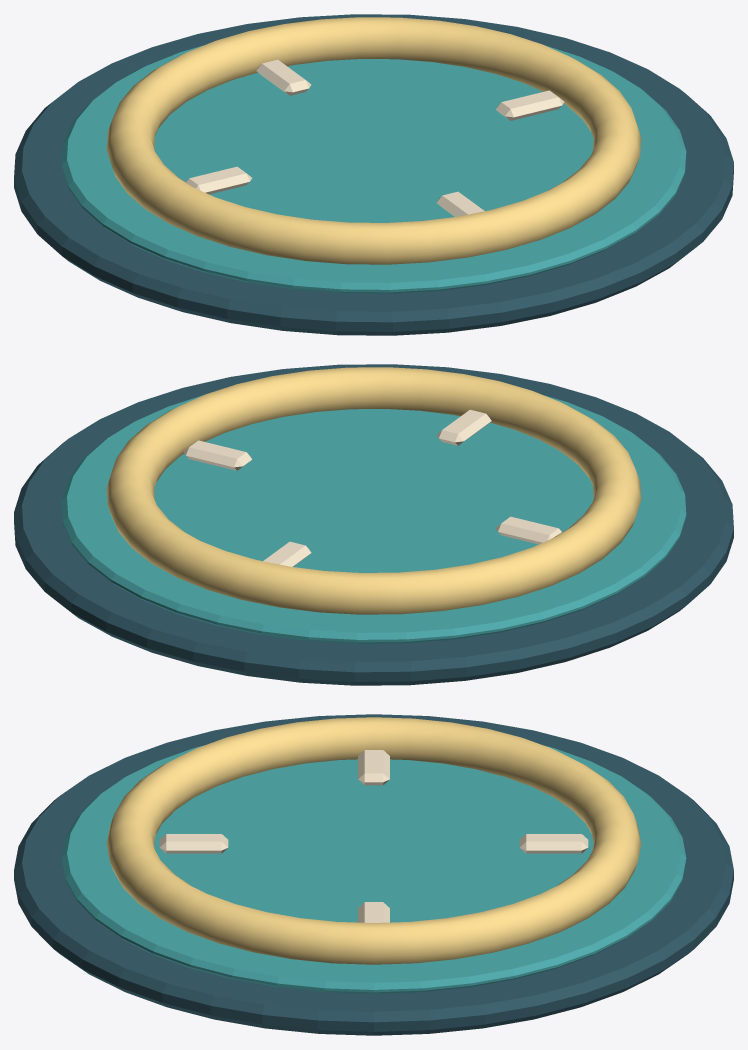
The model's file is city_goal.glb.
3 renders of one model, top to bottom at view 1: azimuth 30°, elevation 25°; view 2: azimuth 150°, elevation 25°; view 3: azimuth 270°, elevation 25°, orthographic.
Visible parts, largest first — view 1: Batched City v2 transit enamel, Batched City v2 deep window reveals, Batched City v2 transit cream, Batched City v2 old ivory stucco; view 2: Batched City v2 transit enamel, Batched City v2 deep window reveals, Batched City v2 transit cream, Batched City v2 old ivory stucco; view 3: Batched City v2 transit enamel, Batched City v2 deep window reveals, Batched City v2 transit cream, Batched City v2 old ivory stucco.
Boxes of the visible parts, <box> form: Batched City v2 transit enamel: <box>61,45,686,293</box>; Batched City v2 deep window reveals: <box>14,14,733,335</box>; Batched City v2 transit cream: <box>106,17,641,264</box>; Batched City v2 old ivory stucco: <box>186,59,564,216</box>; Batched City v2 transit enamel: <box>61,395,686,643</box>; Batched City v2 deep window reveals: <box>14,364,733,685</box>; Batched City v2 transit cream: <box>106,367,641,614</box>; Batched City v2 old ivory stucco: <box>183,409,561,566</box>; Batched City v2 transit enamel: <box>61,746,686,993</box>; Batched City v2 deep window reveals: <box>14,714,733,1035</box>; Batched City v2 transit cream: <box>106,717,641,964</box>; Batched City v2 old ivory stucco: <box>159,750,588,922</box>.
Size of the model in its own units: 1.36 by 0.1328 by 1.36.
